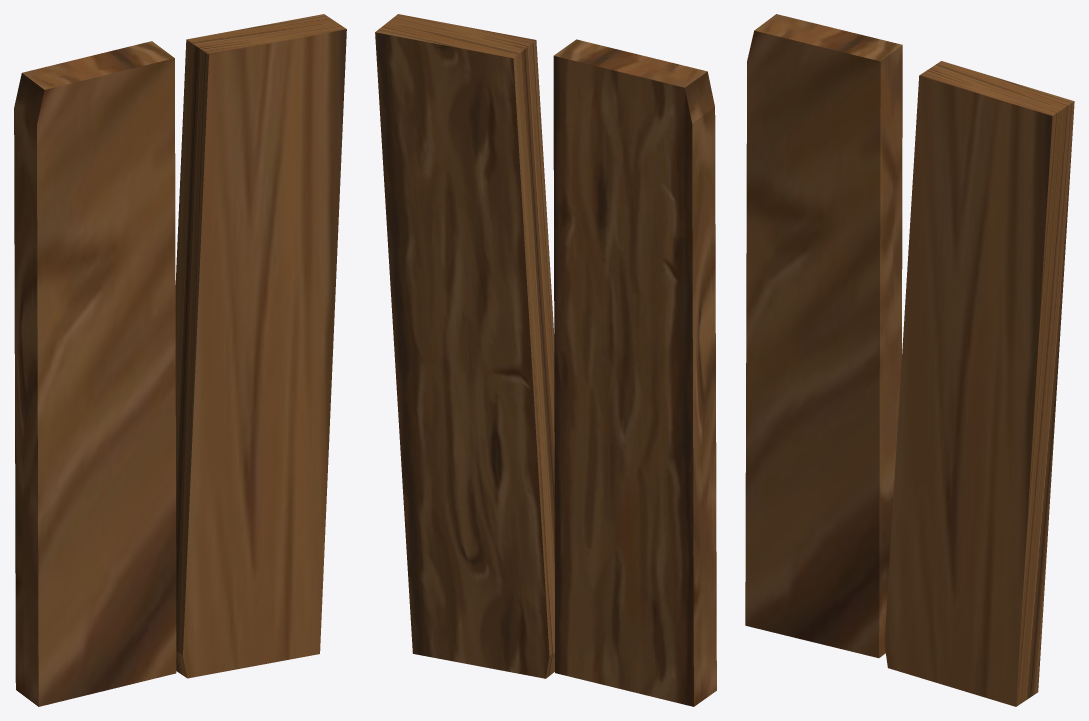
The model's file is woods2.fbx.
The picture shows the model from 3 angles, left to right: view 1: azimuth 30°, elevation 25°; view 2: azimuth 150°, elevation 25°; view 3: azimuth 330°, elevation 25°; orthographic projection. The views are drawn at different scales.
Parts seen in each view (by area): view 1: Cube.006; view 2: Cube.006; view 3: Cube.006.
Boxes of the visible parts, x1,y1,x2,y2 form: Cube.006: [14, 14, 346, 706]; Cube.006: [375, 14, 716, 706]; Cube.006: [745, 14, 1074, 706].
Size of the model in its own units: 107 by 205 by 16.74.
